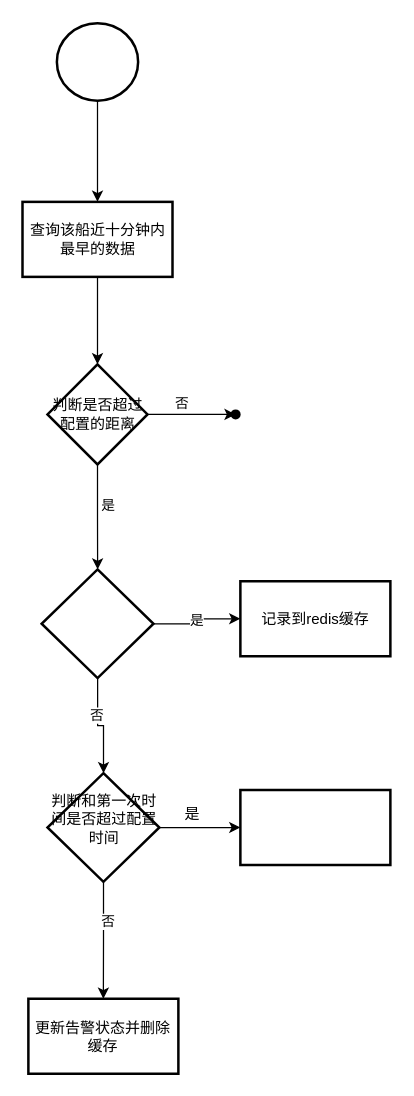
This 414x1096 diagram has some shape labels left out. The box of each missing label's shape, as (x1, y1, x2, y2) in pixels:
判断是否为第 一次记录: (40, 568, 154, 679)
接收到实时轨迹信号: (55, 21, 139, 101)
记录告警信息: (238, 788, 391, 866)
